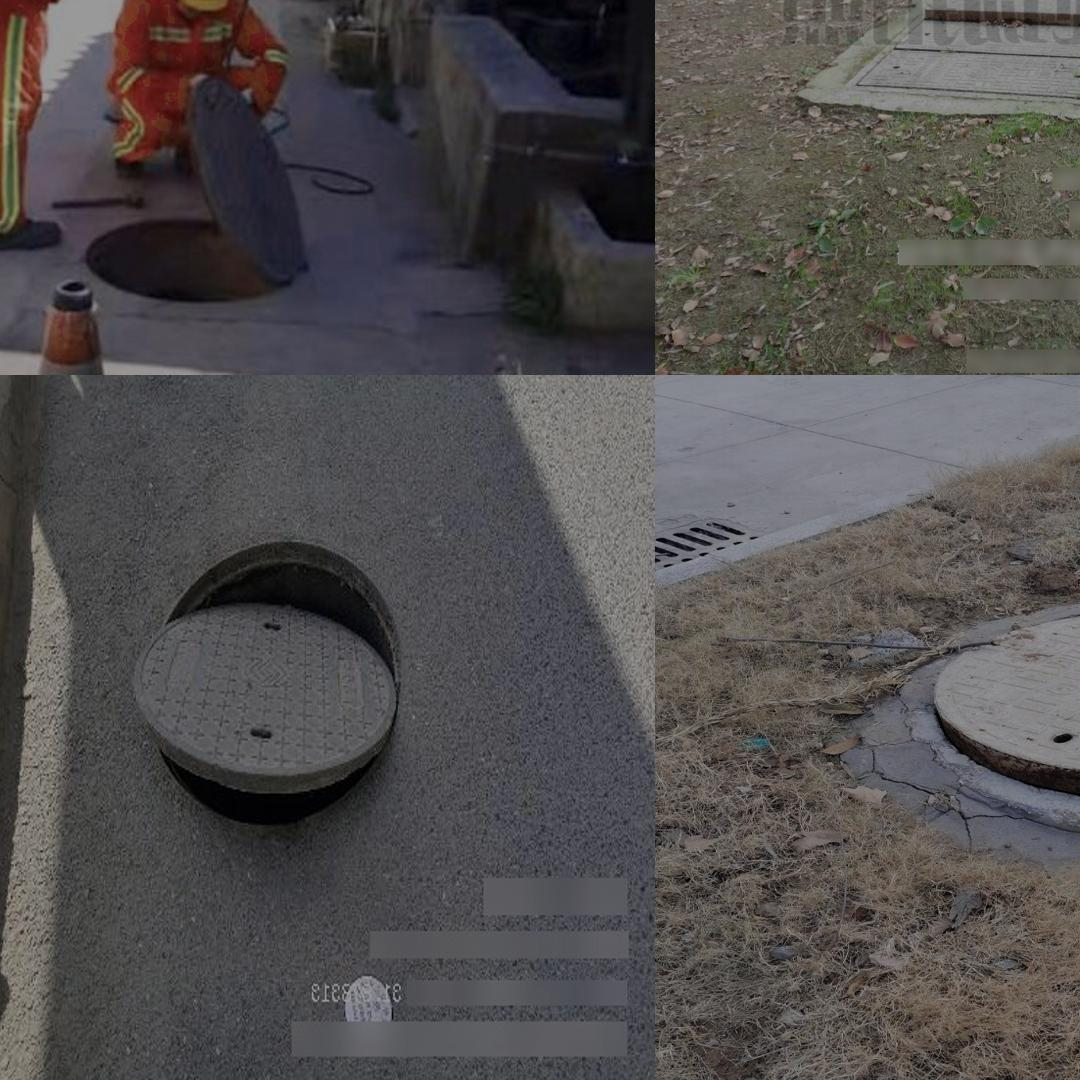uncovered: (135, 540, 402, 822), (74, 81, 336, 318), (906, 599, 1080, 843), (839, 0, 1080, 108)
